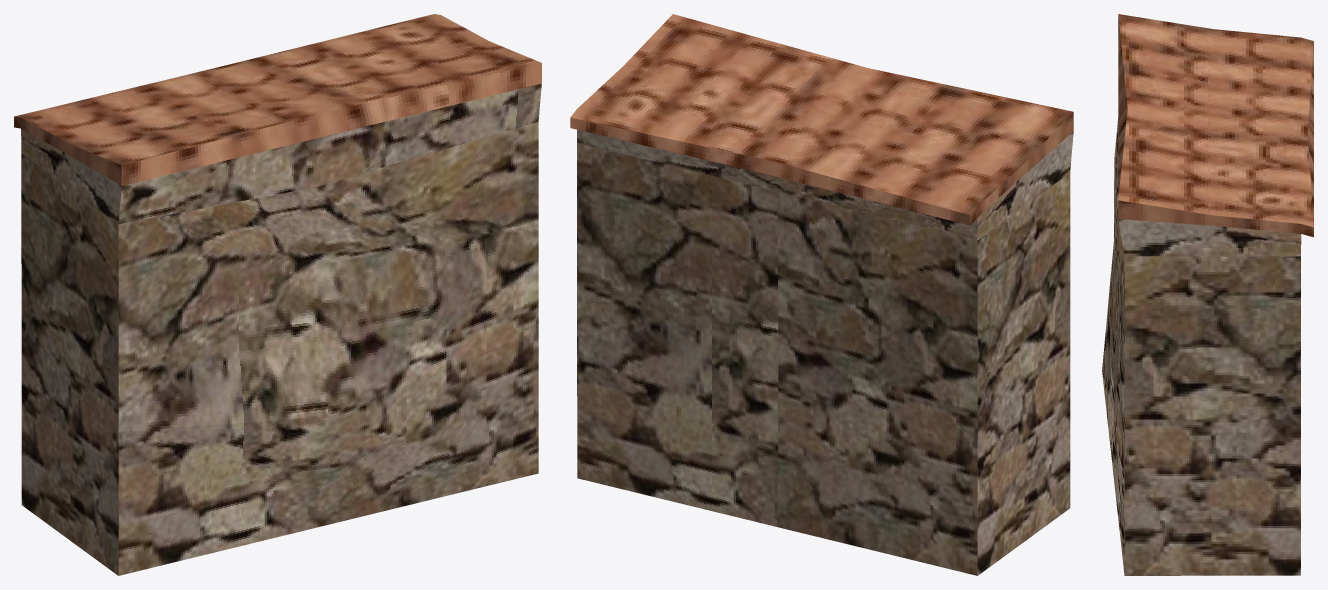
File: lf_drystone_wall_half_tiles.glb
3 views of the same model, side by side, from view 1: azimuth 30°, elevation 25°; view 2: azimuth 150°, elevation 25°; view 3: azimuth 270°, elevation 25° (orthographic). The views are drawn at different scales.
Parts seen in each view (by area): view 1: drystone_wall_half_tiles; view 2: drystone_wall_half_tiles; view 3: drystone_wall_half_tiles.
Boxes of the visible parts, x1=… form: drystone_wall_half_tiles: x1=14, y1=14, x2=541, y2=575; drystone_wall_half_tiles: x1=570, y1=14, x2=1073, y2=575; drystone_wall_half_tiles: x1=1102, y1=14, x2=1313, y2=575.
Size of the model in its own units: 1 by 0.9398 by 0.4805.
Materials: 2 (2 with a texture image).
